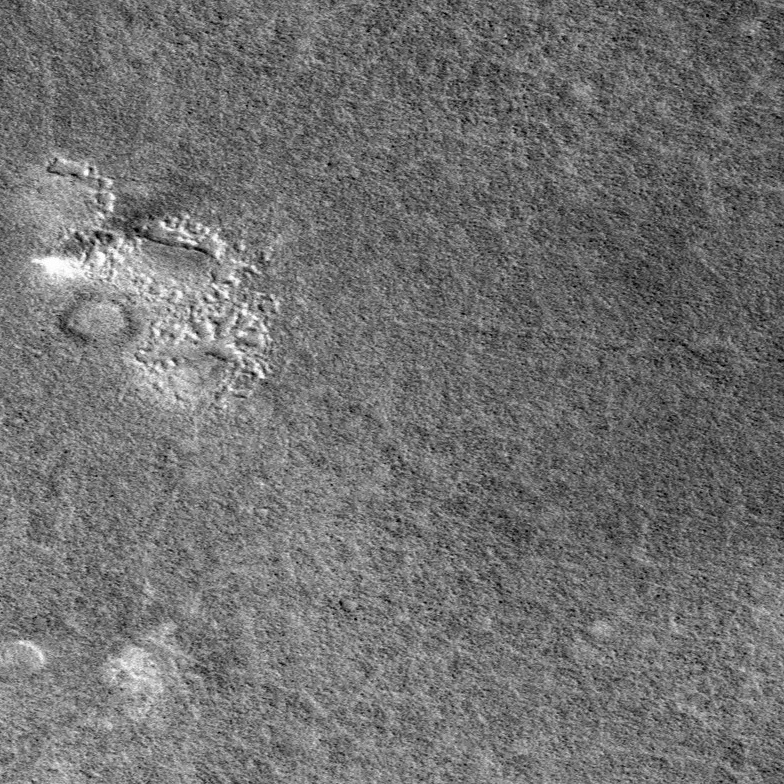dust_devil: (26, 182, 184, 281)
